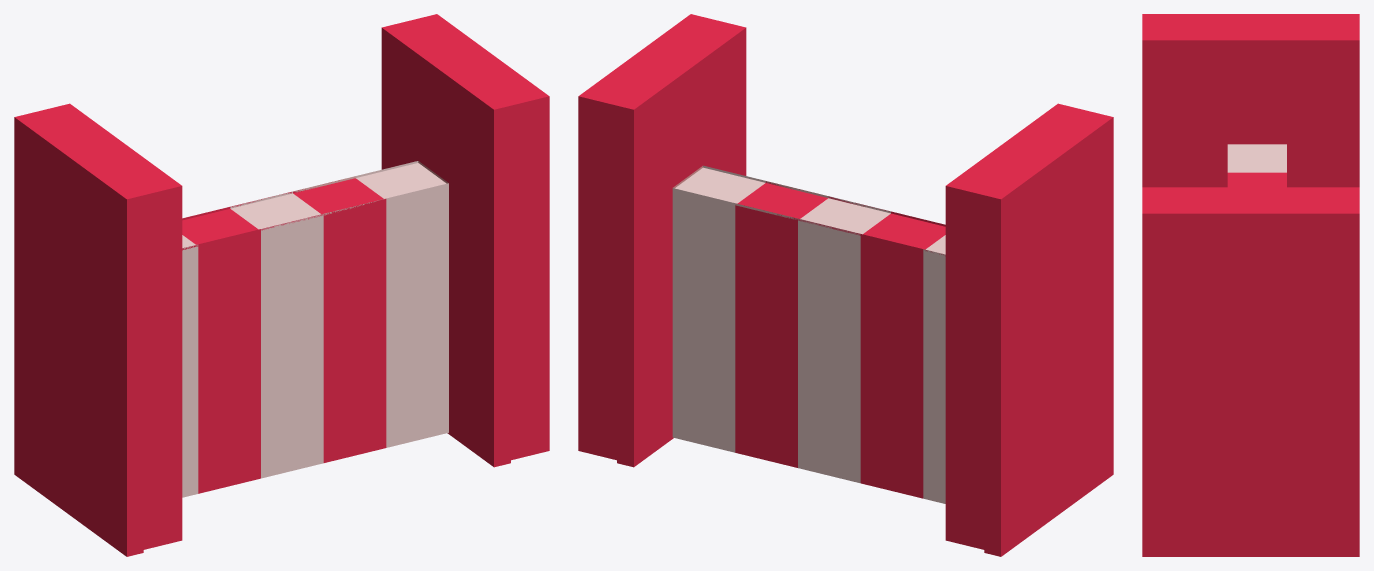
Rendered from puertanivel3 (1).fbx.
3 renders of one model, left to right at view 1: azimuth 30°, elevation 25°; view 2: azimuth 150°, elevation 25°; view 3: azimuth 270°, elevation 25°, orthographic. The views are drawn at different scales.
Visible parts, largest first — view 1: Plane, Cube.002, Cube.001; view 2: Plane, Cube.002, Cube.001; view 3: Cube.001, Cube.002, Plane.
Boxes of the visible parts, x1,y1,x2,y2 form: Plane: (182,161,448,497); Cube.002: (14,103,182,556); Cube.001: (381,14,549,467); Plane: (672,165,945,503); Cube.002: (945,103,1113,556); Cube.001: (578,14,746,467); Cube.001: (1142,187,1359,556); Cube.002: (1142,14,1359,187); Plane: (1227,144,1286,187).
Size of the model in its own units: 484 by 392 by 223.
Materials: 3 (3 with a texture image).
